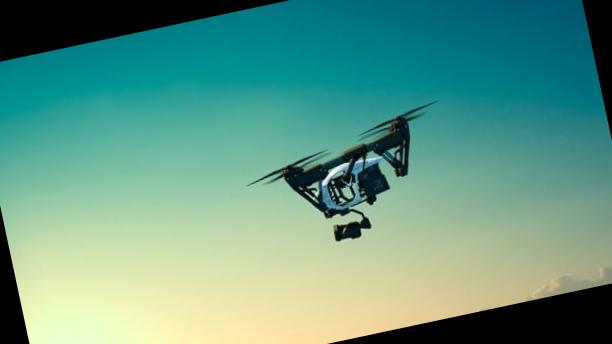drone: (236, 96, 465, 242)
